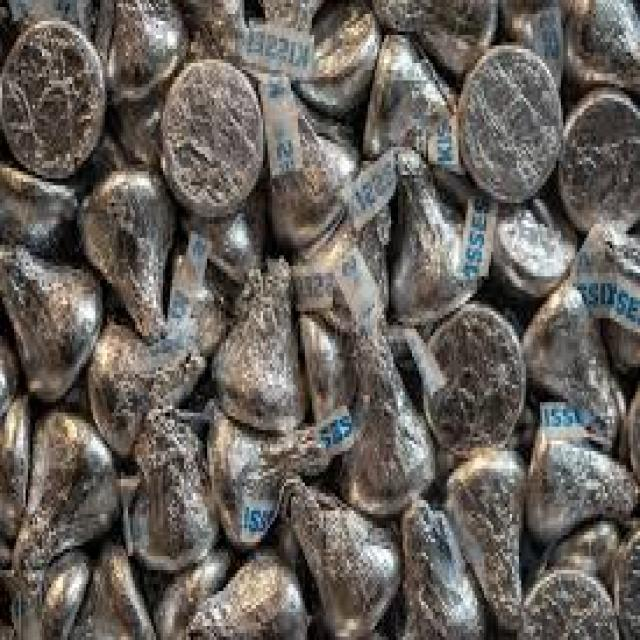kisses: (56, 127, 199, 366), (242, 28, 366, 280), (368, 105, 492, 339), (196, 378, 356, 552), (14, 370, 130, 586), (532, 380, 640, 570)
